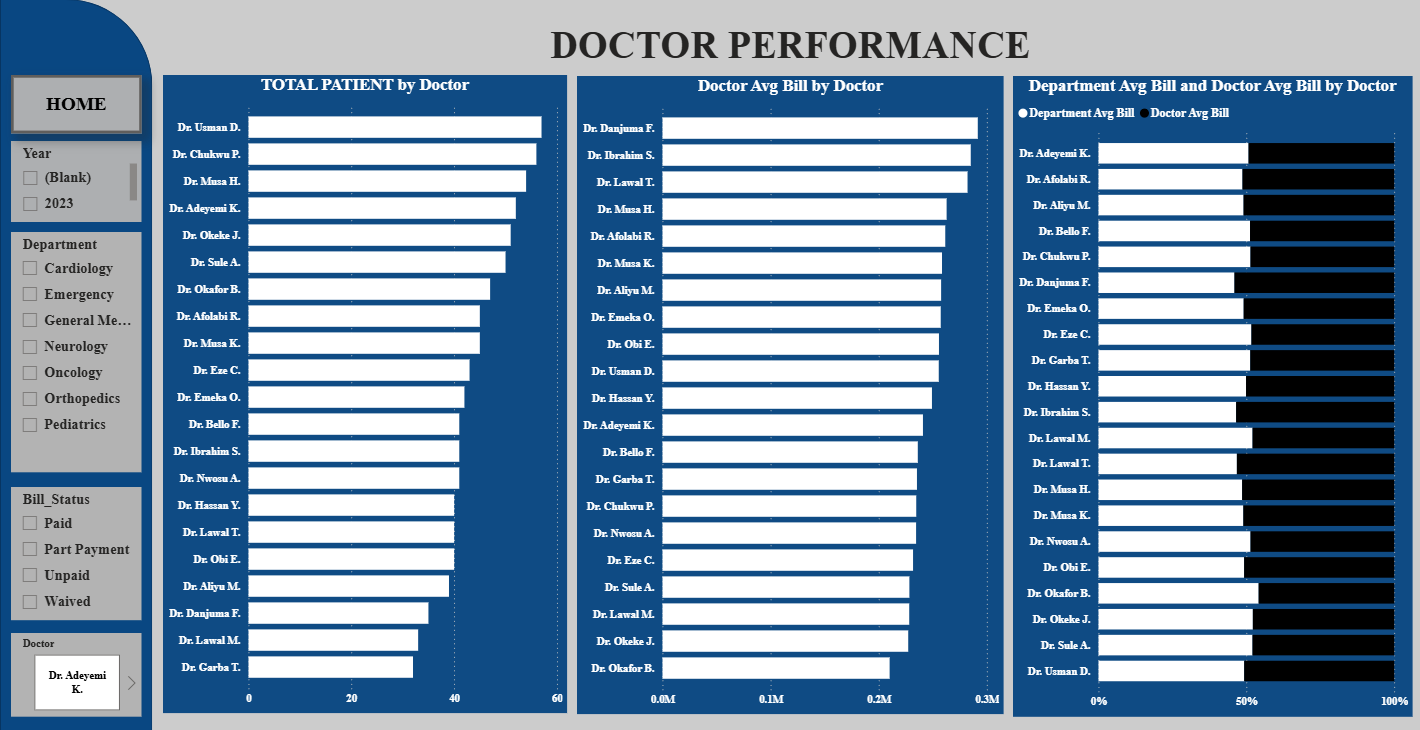

What the dashboard file says about the page in this screenshot:
{"tool":"powerbi","page":{"name":"Doctor Performance","canvas":[1580,820],"ordinal":5},"visuals":[{"type":"shape","box":[0,0,169.2,820.5],"z":5000},{"type":"textbox","box":[579.5,21.6,596.6,62.5],"z":6000},{"type":"hundredPercentStackedBarChart","fields":{"Y":["main sheet.Department Avg Bill","main sheet.AVG BILL PER PATIENT"],"Category":["main sheet.Doctor"]},"box":[1125.6,85.9,443.6,711.5],"z":7000},{"type":"barChart","fields":{"Category":["main sheet.Doctor"],"Y":["main sheet.TOTAL PATIENT"]},"box":[180.8,84.6,448.7,709],"z":8000},{"type":"barChart","fields":{"Category":["main sheet.Doctor"],"Y":["main sheet.AVG BILL PER PATIENT"]},"box":[641,85.9,474.4,709],"z":9000},{"type":"slicer","fields":{"Values":["dim date.Year"]},"box":[12.5,158,145.5,89.8],"z":10000},{"type":"slicer","fields":{"Values":["main sheet.Department"]},"box":[12.5,259.1,145.5,267],"z":11000},{"type":"slicer","fields":{"Values":["main sheet.Bill_Status"]},"box":[12.5,542,145.5,147.7],"z":12000},{"type":"slicer","fields":{"Values":["main sheet.Doctor"]},"box":[12.5,704.5,145.5,93.2],"z":13000},{"type":"actionButton","title":"HOME ","box":[12.5,84.1,145.5,64.8],"z":14000}]}

Visuals, with their boxes in screenshot pixels (x1, y1, x2, y2), scaled from the page's 1580x820 canvas onto the 1420x730 screenshot:
shape: <box>0,0,152,729</box>
textbox: <box>521,19,1057,75</box>
hundredPercentStackedBarChart - main sheet.Department Avg Bill x main sheet.AVG BILL PER PATIENT: <box>1012,76,1410,710</box>
barChart - main sheet.Doctor x main sheet.TOTAL PATIENT: <box>162,75,566,706</box>
barChart - main sheet.Doctor x main sheet.AVG BILL PER PATIENT: <box>576,76,1002,708</box>
slicer - dim date.Year: <box>11,141,142,221</box>
slicer - main sheet.Department: <box>11,231,142,468</box>
slicer - main sheet.Bill_Status: <box>11,483,142,614</box>
slicer - main sheet.Doctor: <box>11,627,142,710</box>
"HOME " actionButton: <box>11,75,142,133</box>
